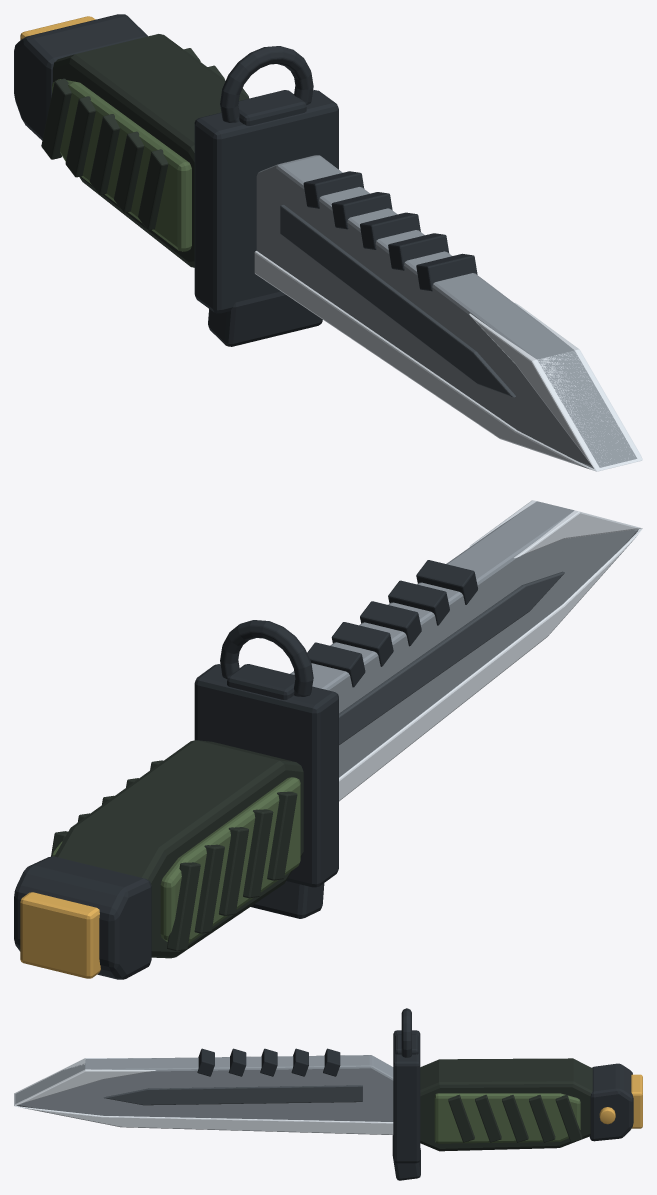
File: bayonet.glb
The picture shows the model from 3 angles, top to bottom: view 1: azimuth 30°, elevation 25°; view 2: azimuth 150°, elevation 25°; view 3: azimuth 270°, elevation 25°; orthographic projection. The views are drawn at different scales.
Parts seen in each view (by area): view 1: Blade_Main, Guard_Main, Grip_Core, Fuller_Left, Blade_Cutting_Edge, Grip_Scale_Left, Locking_Pommel, Blade_Swedge, Guard_Lower_Quillon, Integrated_Muzzle_Ring, Ring_Bridge, Grip_Rib_L_5 (+9 smaller); view 2: Blade_Main, Grip_Core, Guard_Main, Locking_Pommel, Fuller_Left, Blade_Cutting_Edge, Pommel_Cap, Grip_Scale_Left, Integrated_Muzzle_Ring, Blade_Swedge, Guard_Lower_Quillon, Ring_Bridge (+10 smaller); view 3: Blade_Main, Grip_Core, Grip_Scale_Right, Fuller_Right, Blade_Cutting_Edge, Guard_Main, Locking_Pommel, Blade_Swedge, Grip_Rib_R_5, Grip_Rib_R_1, Grip_Rib_R_2, Grip_Rib_R_3 (+10 smaller).
Part boxes in pixels (x1,y1,x2,y2): Blade_Main: (256,155,637,468); Guard_Main: (194,90,338,313); Grip_Core: (53,34,249,267); Fuller_Left: (280,204,515,397); Blade_Cutting_Edge: (254,251,641,471); Grip_Scale_Left: (52,79,191,251); Locking_Pommel: (14,14,147,140); Blade_Swedge: (469,303,642,471); Guard_Lower_Quillon: (208,291,322,346); Integrated_Muzzle_Ring: (220,46,313,122); Ring_Bridge: (238,90,306,125); Grip_Rib_L_5: (41,78,71,159); Blade_Main: (290,501,638,777); Grip_Core: (54,740,303,958); Guard_Main: (194,664,338,887); Locking_Pommel: (14,856,151,979); Fuller_Left: (339,571,564,744); Blade_Cutting_Edge: (339,528,642,801); Pommel_Cap: (20,892,100,978); Grip_Scale_Left: (160,777,300,943); Integrated_Muzzle_Ring: (220,620,313,696); Blade_Swedge: (469,500,642,558); Guard_Lower_Quillon: (251,881,324,918); Ring_Bridge: (227,664,295,699); Blade_Main: (15,1055,393,1121); Grip_Core: (420,1058,592,1151); Grip_Scale_Right: (434,1093,580,1143); Fuller_Right: (103,1085,362,1105); Blade_Cutting_Edge: (14,1105,393,1134); Guard_Main: (393,1030,420,1163); Locking_Pommel: (589,1063,633,1141); Blade_Swedge: (14,1058,155,1105); Grip_Rib_R_5: (555,1094,582,1142); Grip_Rib_R_1: (448,1094,474,1142); Grip_Rib_R_2: (475,1094,501,1142); Grip_Rib_R_3: (502,1095,528,1142).
Size of the model in its own units: 0.098 by 0.1945 by 0.702.
